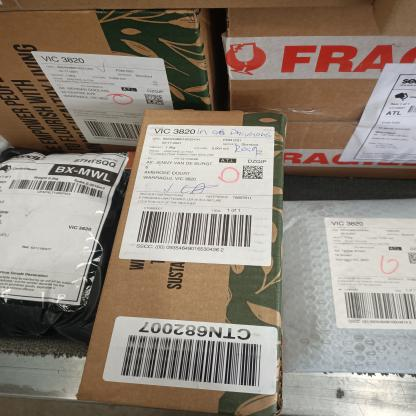label: (114, 120, 276, 270), (0, 145, 129, 322), (102, 311, 278, 408), (18, 44, 174, 149), (314, 209, 416, 353), (336, 59, 416, 168)
package: (71, 102, 294, 416), (224, 0, 416, 187), (1, 0, 214, 158)
